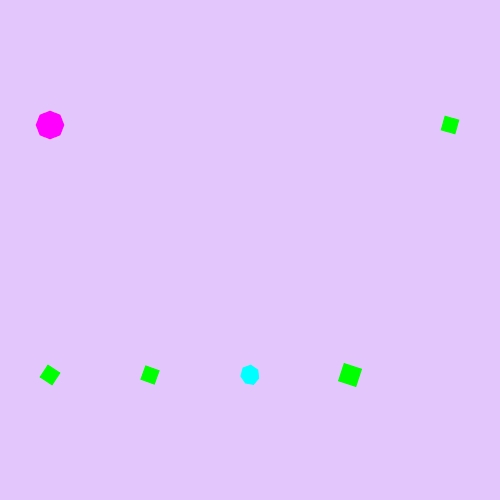heptagon: (236, 361, 265, 389)
octagon: (32, 107, 69, 144)
quadrilateral: (333, 358, 368, 393), (435, 110, 465, 140), (35, 360, 65, 390), (135, 360, 165, 390)
